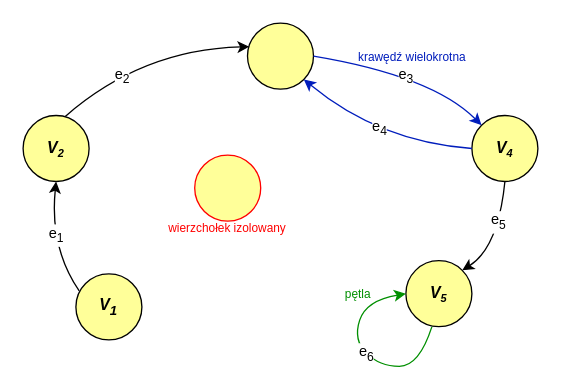
Image size: 561x389. Some labels were removed from this diagram. The centre of each missing label's shape, as x and y in pixels:
V 3: point (280, 55)
V 6: point (227, 187)
